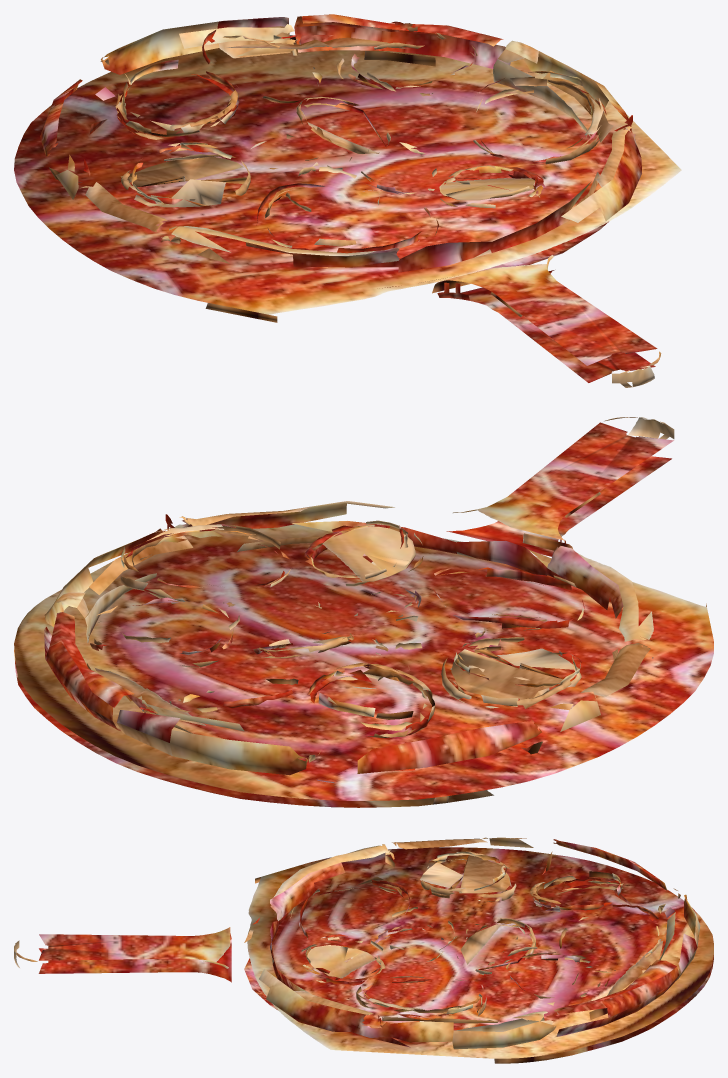
File: pizza_peperoni.fbx
3 views of the same model, one above another, from view 1: azimuth 30°, elevation 25°; view 2: azimuth 150°, elevation 25°; view 3: azimuth 270°, elevation 25° (orthographic). The views are drawn at different scales.
Parts seen in each view (by area): view 1: meshes[0]; view 2: meshes[0]; view 3: meshes[0].
Part boxes in pixels (left/top/right/bottom): meshes[0]: left=14, top=14, right=681, bottom=387; meshes[0]: left=14, top=417, right=713, bottom=807; meshes[0]: left=14, top=837, right=713, bottom=1063.
Size of the model in its own units: 71.29 by 7.62 by 99.8.
